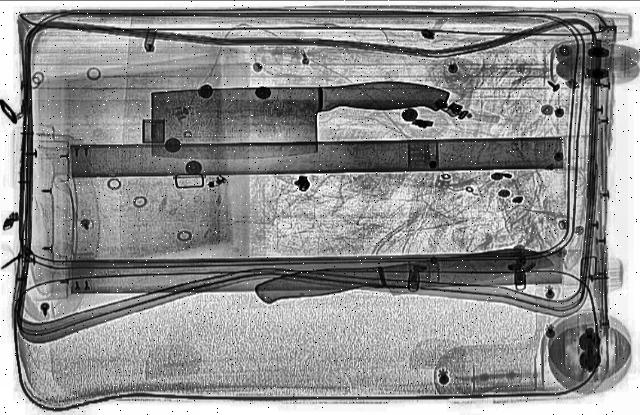Knife: (147, 80, 457, 162), (252, 242, 558, 312)
